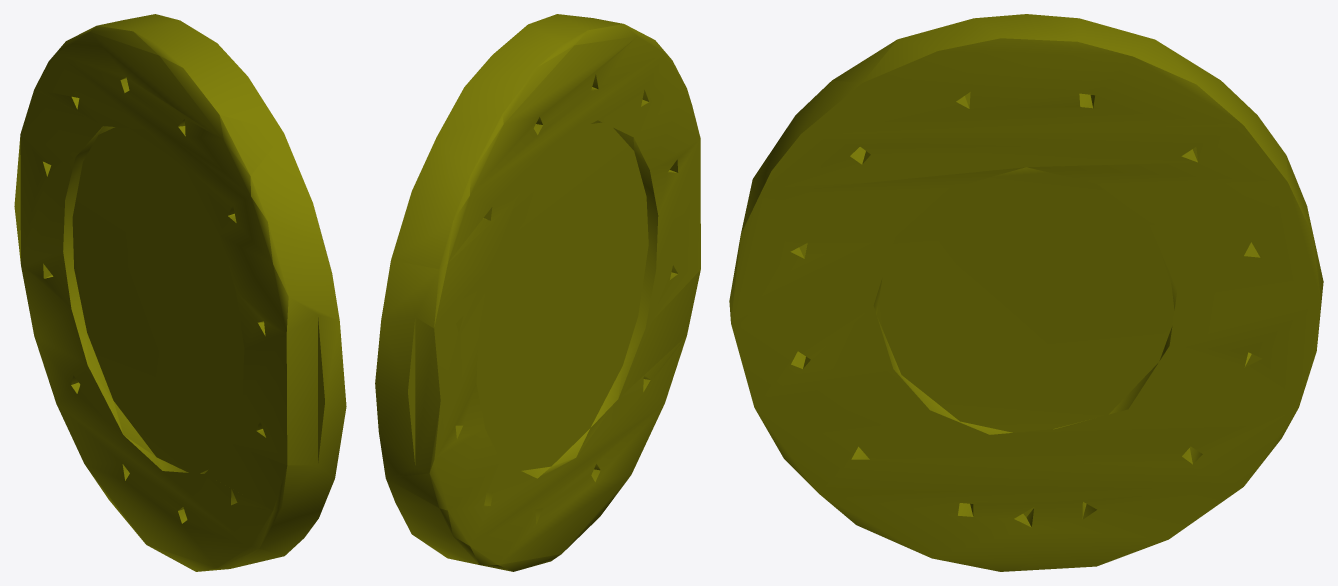
3 views of the same model, side by side, from view 1: azimuth 30°, elevation 25°; view 2: azimuth 150°, elevation 25°; view 3: azimuth 270°, elevation 25° (orthographic). The views are drawn at different scales.
Visible parts, largest first — view 1: mh00400-j00_lk6; view 2: mh00400-j00_lk6; view 3: mh00400-j00_lk6.
Boxes of the visible parts, bbox=[...] form: mh00400-j00_lk6: bbox=[14, 14, 346, 571]; mh00400-j00_lk6: bbox=[375, 14, 700, 571]; mh00400-j00_lk6: bbox=[729, 14, 1323, 571].
Size of the model in its own units: 0.0383 by 0.3175 by 0.3151.
